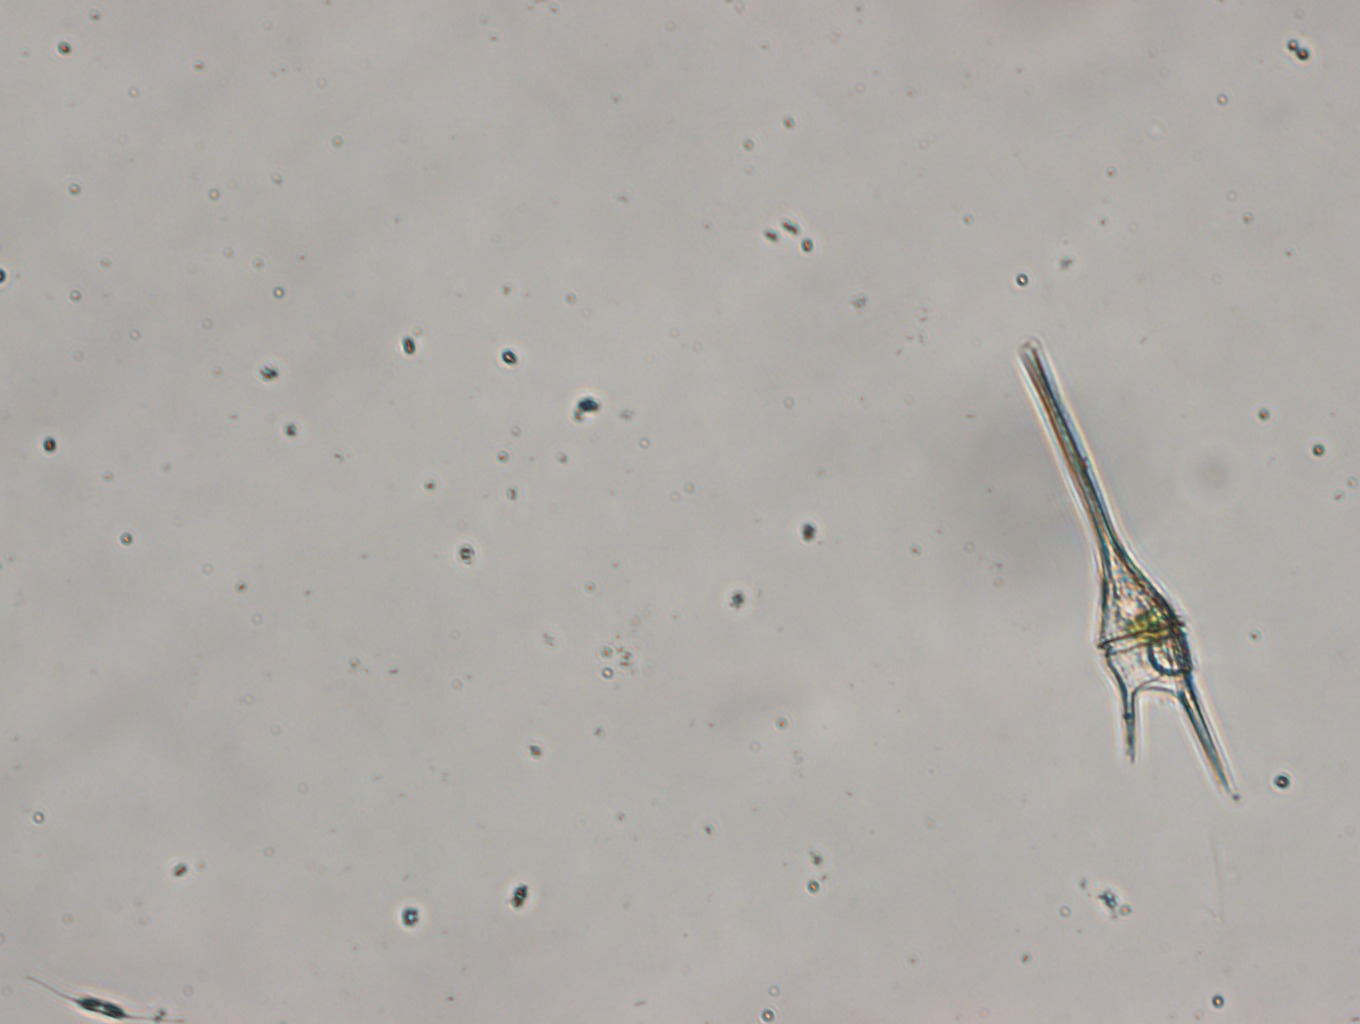ceratium furca: (1017, 338, 1237, 799)
